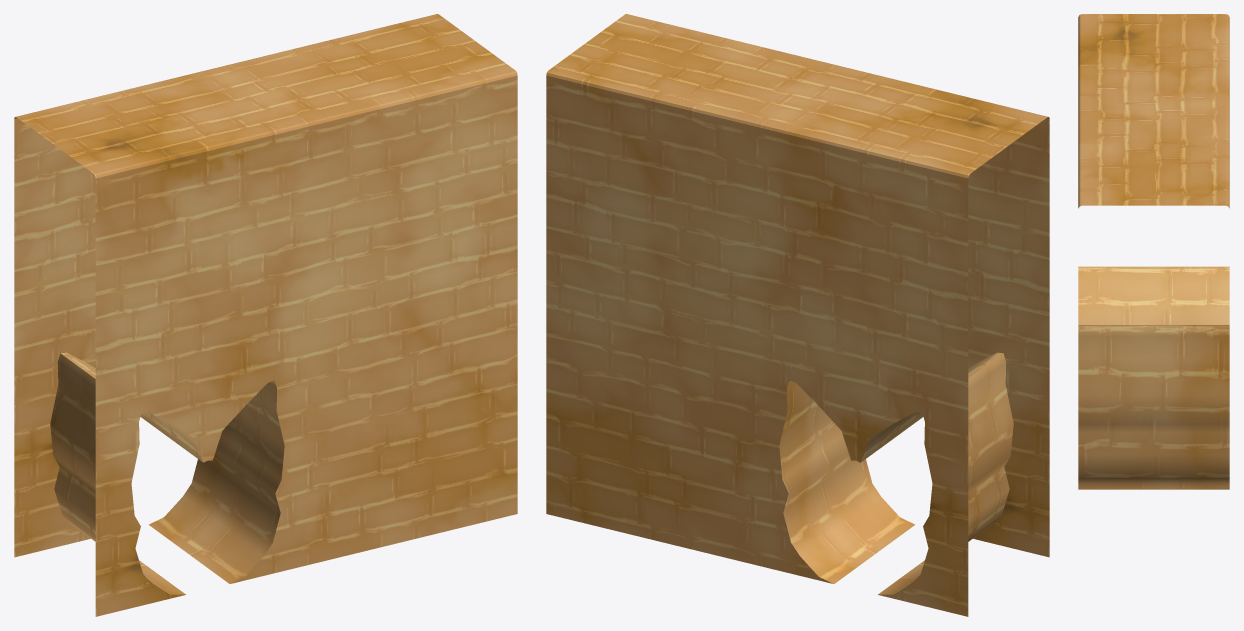
File: SM_Env_Wall_CatHole_Left_B.fbx
The picture shows the model from 3 angles, left to right: view 1: azimuth 30°, elevation 25°; view 2: azimuth 150°, elevation 25°; view 3: azimuth 270°, elevation 25°; orthographic projection. The views are drawn at different scales.
Parts seen in each view (by area): view 1: Wall_CatHole_Left; view 2: Wall_CatHole_Left; view 3: Wall_CatHole_Left.
Boxes of the visible parts, <box> form: Wall_CatHole_Left: <box>14,14,517,616</box>; Wall_CatHole_Left: <box>546,14,1049,616</box>; Wall_CatHole_Left: <box>1078,14,1229,489</box>.
Size of the model in its own units: 300 by 300 by 100.
Materials: 1 (1 with a texture image).
